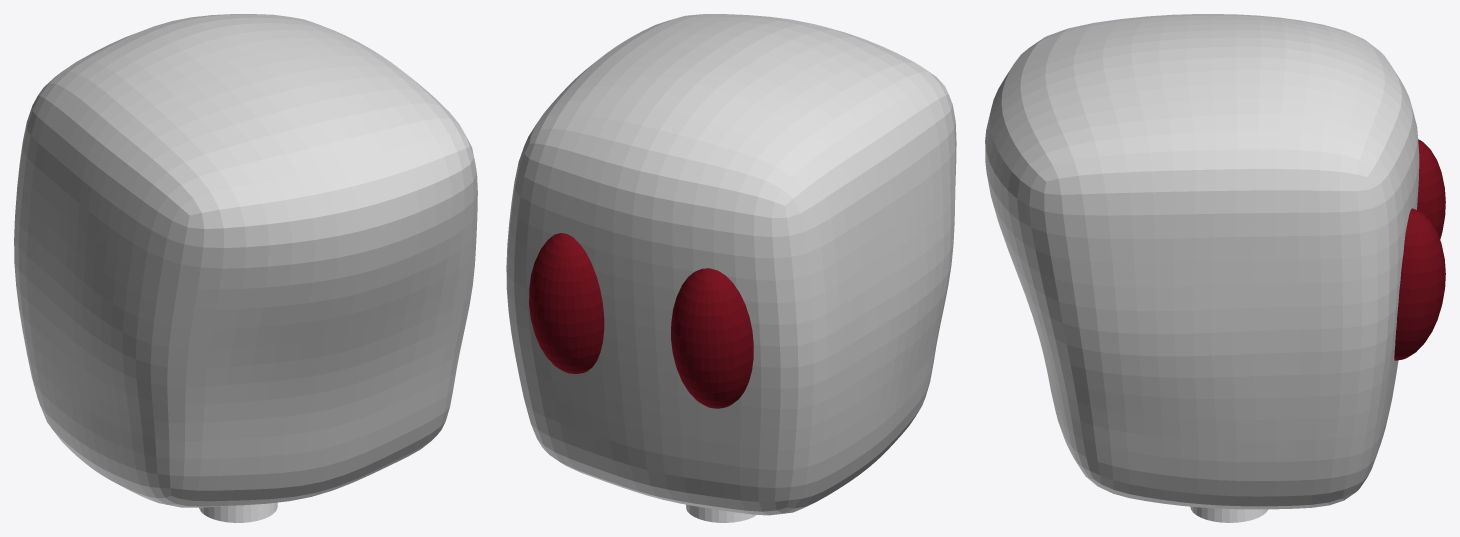
The model's file is cabeza.fbx.
3 views of the same model, side by side, from view 1: azimuth 30°, elevation 25°; view 2: azimuth 150°, elevation 25°; view 3: azimuth 270°, elevation 25° (orthographic). The views are drawn at different scales.
Visible parts, largest first — view 1: Cube, Cylinder; view 2: Cube, Sphere.001, Sphere, Cylinder; view 3: Cube, Sphere, Sphere.001, Cylinder.
Boxes of the visible parts, left/top/right/bottom form: Cube: left=14, top=14, right=477, bottom=507; Cylinder: left=199, top=502, right=277, bottom=522; Cube: left=506, top=14, right=956, bottom=515; Sphere.001: left=671, top=268, right=753, bottom=408; Sphere: left=529, top=233, right=604, bottom=373; Cylinder: left=686, top=504, right=756, bottom=522; Cube: left=985, top=14, right=1419, bottom=509; Sphere: left=1394, top=208, right=1445, bottom=360; Sphere.001: left=1417, top=139, right=1445, bottom=239; Cylinder: left=1190, top=506, right=1268, bottom=522.
Size of the model in its own units: 273 by 343 by 312.
